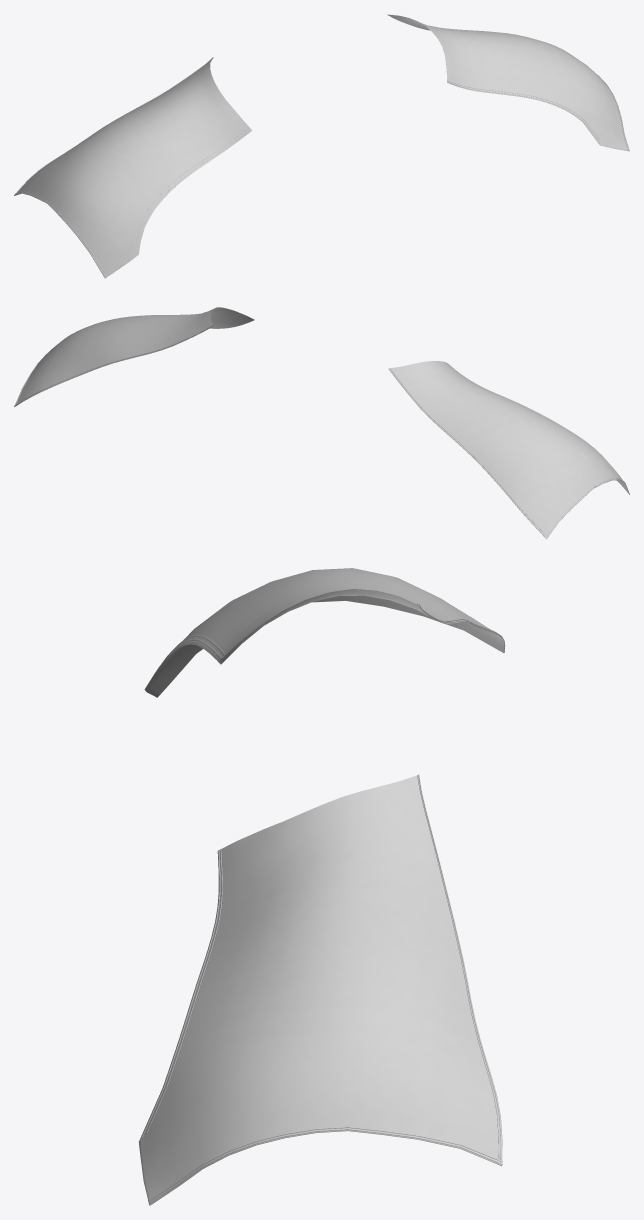
File: Jac_Decor_TOP.glb
3 renders of one model, top to bottom at view 1: azimuth 30°, elevation 25°; view 2: azimuth 150°, elevation 25°; view 3: azimuth 270°, elevation 25°, orthographic. The views are drawn at different scales.
Parts seen in each view (by area): view 1: Jac_Decor_TOP1, Rope1; view 2: Jac_Decor_TOP1, Rope1; view 3: Jac_Decor_TOP1, Rope1.
Part boxes in pixels (box(x1,y1,x2,y2)): Jac_Decor_TOP1: box(14, 14, 629, 278); Rope1: box(14, 14, 629, 277); Jac_Decor_TOP1: box(14, 307, 629, 539); Rope1: box(14, 325, 629, 538); Jac_Decor_TOP1: box(139, 568, 505, 1205); Rope1: box(140, 603, 504, 1204).
Size of the model in its own units: 0.7485 by 0.1729 by 0.2176.
Materials: 2 (2 with a texture image).
